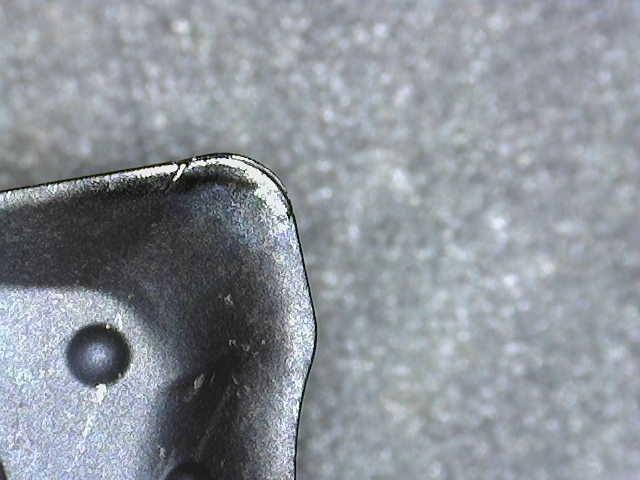normal: (274, 220, 321, 480), (0, 171, 170, 218)
wear: (126, 151, 296, 229)
